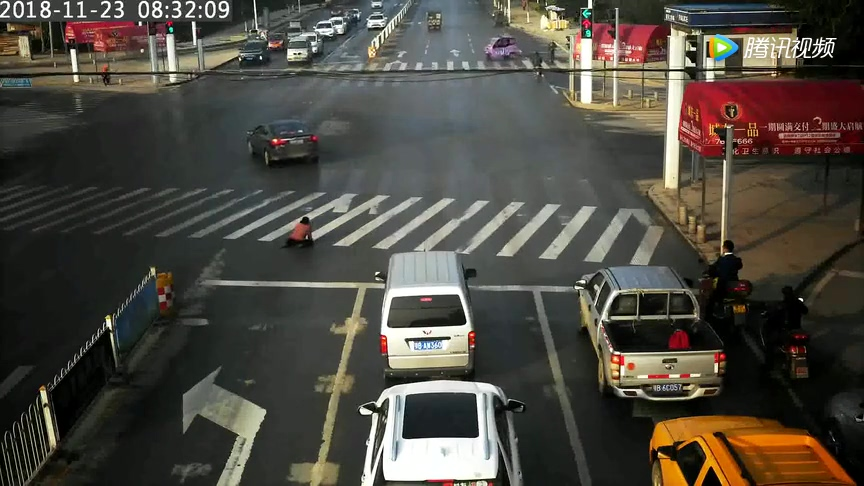car: (565, 252, 732, 413), (352, 372, 528, 486), (370, 245, 506, 387), (618, 412, 854, 486), (240, 110, 330, 174), (231, 34, 273, 71), (279, 29, 314, 70), (484, 31, 520, 61), (422, 7, 449, 44), (362, 7, 389, 31)
person: (703, 226, 749, 337), (767, 276, 807, 396), (279, 213, 316, 250), (526, 50, 545, 87), (93, 64, 114, 93), (545, 38, 563, 69)
